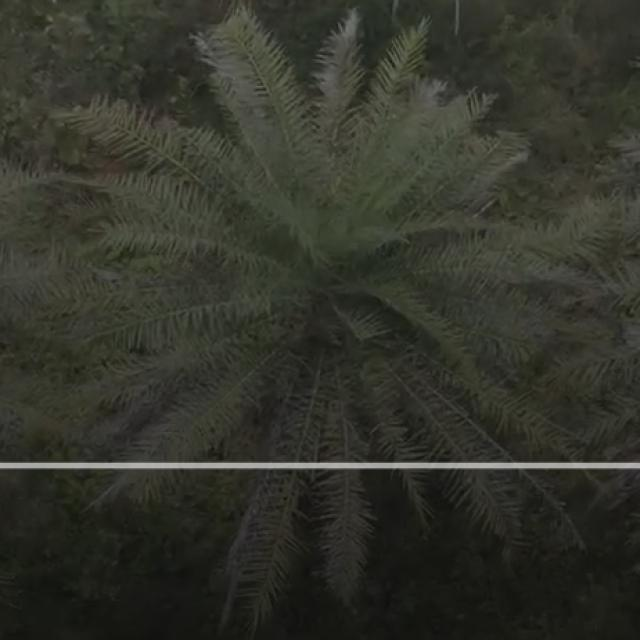notMangoTree: (17, 27, 640, 622)
